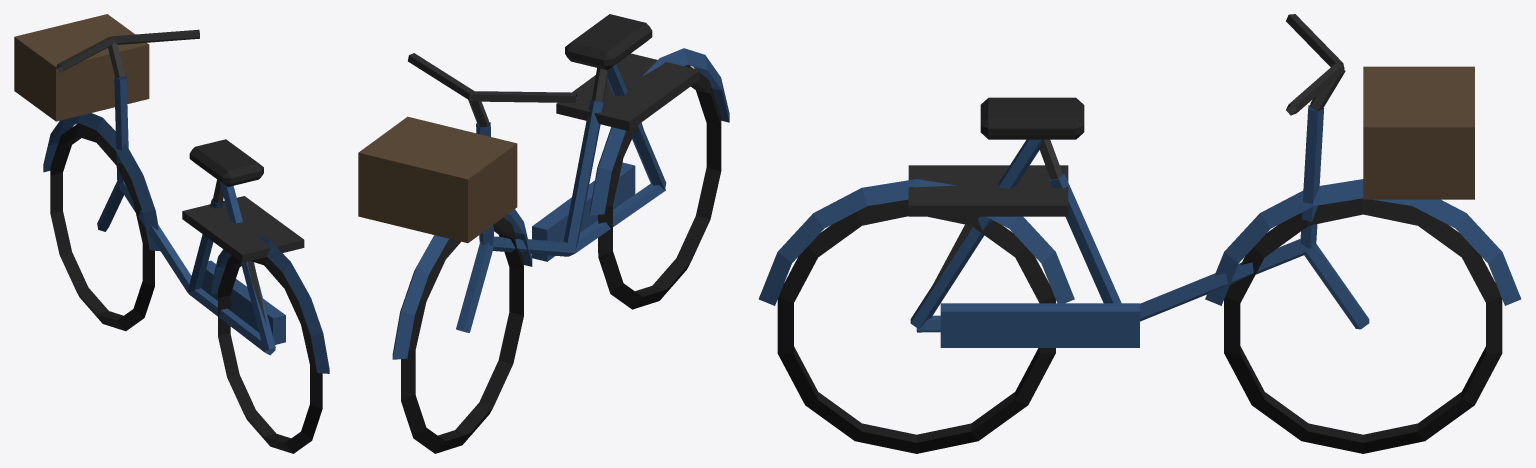
Rendered from rack-bike.glb.
3 views of the same model, side by side, from view 1: azimuth 30°, elevation 25°; view 2: azimuth 150°, elevation 25°; view 3: azimuth 270°, elevation 25° (orthographic). The views are drawn at different scales.
Visible parts, largest first — view 1: Cube.001, Torus.002, Torus, Cube.003, Torus.003, Torus.001, Cube, Cube.002, Cylinder, Cylinder.002, Cylinder.001, Cylinder.004 (+6 smaller); view 2: Cube.001, Torus.002, Torus, Cube.003, Cube, Torus.001, Torus.003, Cube.002, Cylinder.003, Cylinder.005, Cylinder.001, Cylinder (+4 smaller); view 3: Cube.001, Torus.002, Torus, Cube.002, Cube.003, Torus.003, Torus.001, Cube, Cylinder, Cylinder.002, Cylinder.003, Cylinder.004 (+3 smaller).
Part boxes in pixels (bbox=[...]): Cube.001: bbox=[14, 14, 149, 121]; Torus.002: bbox=[50, 123, 154, 331]; Torus: bbox=[218, 256, 322, 453]; Cube.003: bbox=[182, 196, 304, 262]; Torus.003: bbox=[43, 113, 160, 251]; Torus.001: bbox=[211, 234, 329, 373]; Cube: bbox=[189, 139, 263, 186]; Cube.002: bbox=[201, 260, 285, 344]; Cylinder: bbox=[219, 181, 275, 350]; Cylinder.002: bbox=[118, 182, 191, 293]; Cylinder.001: bbox=[188, 288, 275, 355]; Cylinder.004: bbox=[114, 76, 128, 183]; Cube.001: bbox=[358, 116, 517, 243]; Torus.002: bbox=[401, 218, 523, 453]; Torus: bbox=[598, 65, 721, 309]; Cube.003: bbox=[556, 53, 699, 131]; Cube: bbox=[565, 14, 652, 70]; Torus.001: bbox=[589, 48, 729, 215]; Torus.003: bbox=[392, 209, 532, 359]; Cube.002: bbox=[532, 162, 635, 261]; Cylinder.003: bbox=[563, 99, 604, 250]; Cylinder.005: bbox=[456, 241, 494, 332]; Cylinder.001: bbox=[571, 183, 665, 255]; Cylinder: bbox=[607, 64, 666, 189]; Cube.001: bbox=[1363, 66, 1474, 199]; Torus.002: bbox=[1224, 198, 1502, 453]; Torus: bbox=[777, 199, 1055, 453]; Cube.002: bbox=[940, 303, 1139, 347]; Cube.003: bbox=[908, 165, 1068, 216]; Torus.003: bbox=[1205, 179, 1521, 305]; Torus.001: bbox=[758, 179, 1074, 305]; Cube: bbox=[980, 97, 1084, 139]; Cylinder: bbox=[910, 139, 1042, 328]; Cylinder.002: bbox=[1140, 239, 1308, 321]; Cylinder.003: bbox=[1049, 173, 1121, 303]; Cylinder.004: bbox=[1300, 105, 1323, 248].
Bounding box in the file's own units: 0.5523 × 1.09 × 1.91.
